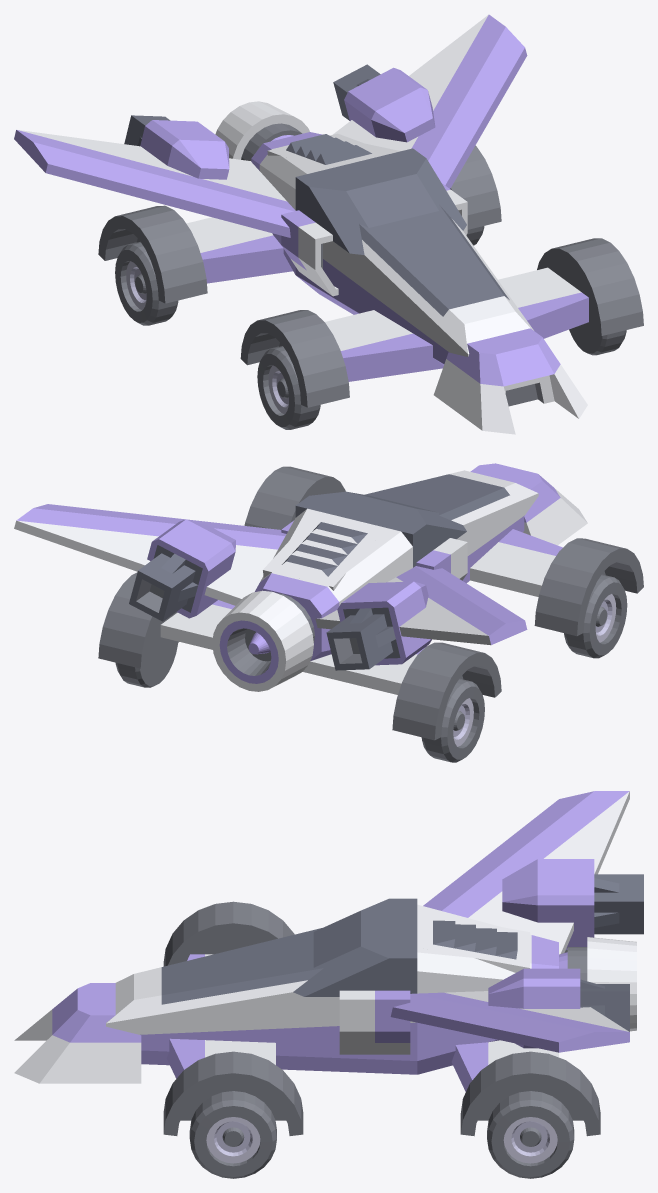
The model's file is aerocar_unity.fbx.
The picture shows the model from 3 angles, top to bottom: view 1: azimuth 30°, elevation 25°; view 2: azimuth 150°, elevation 25°; view 3: azimuth 270°, elevation 25°; orthographic projection. The views are drawn at different scales.
Visible parts, largest first — view 1: body, backRightWheel, frontRightWheel, frontLeftWheel; view 2: body, frontRightWheel, backRightWheel, backLeftWheel; view 3: body, backLeftWheel, frontLeftWheel.
Part boxes in pixels (bbox=[...]): body: bbox=[14, 14, 643, 434]; backRightWheel: bbox=[115, 242, 178, 325]; frontRightWheel: bbox=[257, 346, 320, 429]; frontLeftWheel: bbox=[569, 324, 626, 355]; body: bbox=[14, 463, 643, 740]; frontRightWheel: bbox=[564, 574, 627, 658]; backRightWheel: bbox=[421, 678, 484, 762]; backLeftWheel: bbox=[115, 643, 177, 687]; body: bbox=[14, 791, 643, 1136]; backLeftWheel: bbox=[487, 1091, 574, 1178]; frontLeftWheel: bbox=[189, 1091, 276, 1178].
Bounding box in the file's own units: 410 × 144 × 445.
